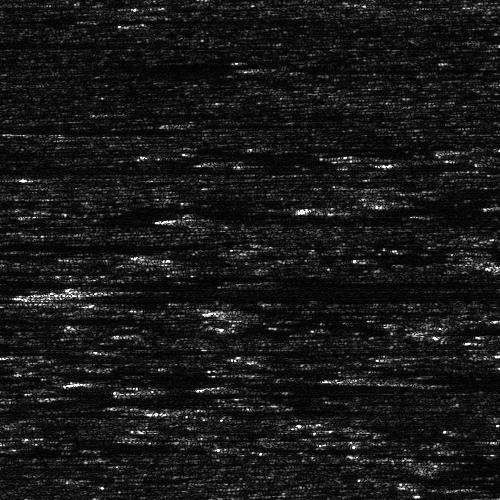object: (288, 370, 455, 387), (0, 286, 166, 303), (99, 213, 276, 226), (255, 202, 390, 213), (124, 404, 217, 417), (438, 144, 500, 153), (243, 65, 316, 70), (139, 252, 192, 257), (204, 379, 225, 390), (0, 280, 17, 289), (492, 38, 500, 45)
shadow: (67, 286, 500, 303), (187, 213, 500, 226), (215, 379, 500, 390), (170, 404, 410, 417), (372, 370, 500, 387), (322, 202, 500, 213), (0, 122, 194, 131), (0, 38, 157, 49), (0, 234, 78, 255), (0, 400, 286, 405), (0, 164, 166, 171), (280, 65, 500, 70), (165, 252, 246, 257), (0, 280, 40, 289), (0, 324, 54, 329), (475, 144, 500, 153)
